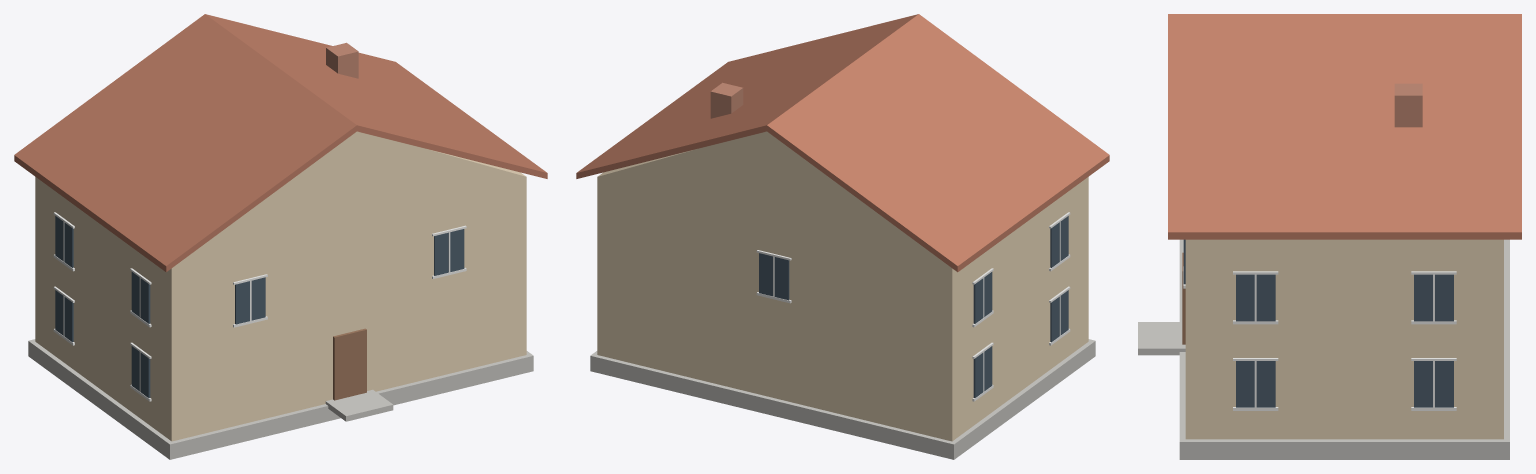
Rendered from farmhouse.glb.
3 views of the same model, side by side, from view 1: azimuth 30°, elevation 25°; view 2: azimuth 150°, elevation 25°; view 3: azimuth 270°, elevation 25° (orthographic). The views are drawn at different scales.
Parts seen in each view (by area): view 1: farmhouse; view 2: farmhouse; view 3: farmhouse.
Boxes of the visible parts, bbox=[...] form: farmhouse: bbox=[14, 14, 547, 459]; farmhouse: bbox=[576, 14, 1109, 459]; farmhouse: bbox=[1138, 14, 1521, 459].
Size of the model in its own units: 12.9 by 9.5 by 9.65.
